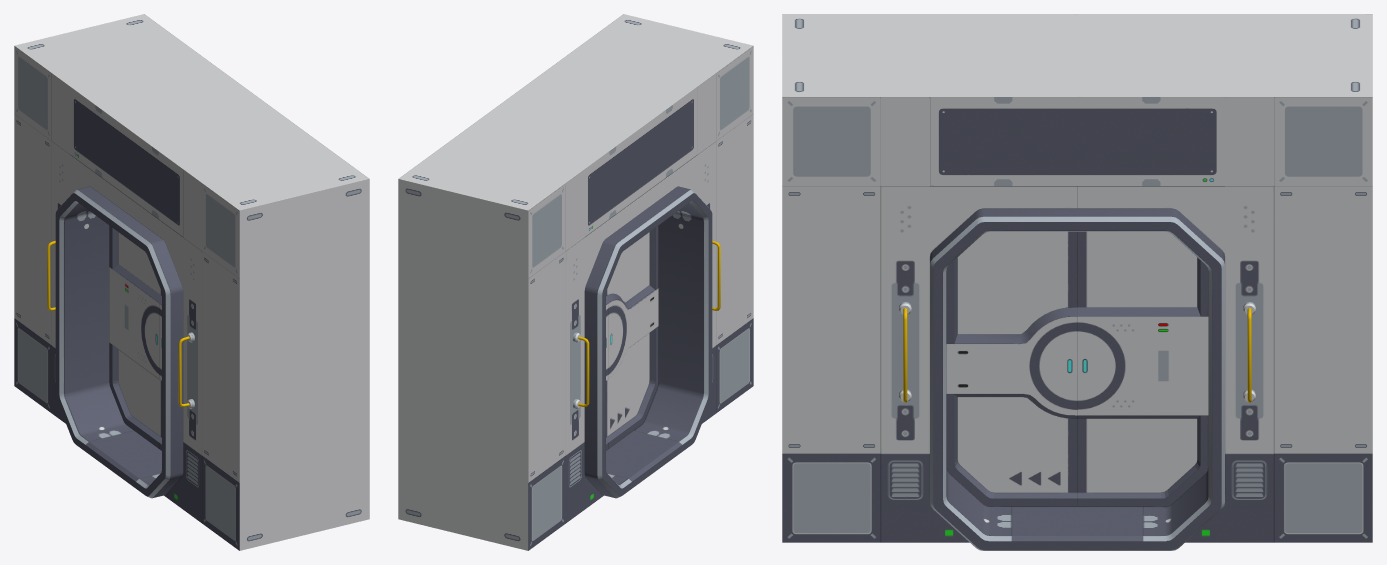
Rendered from Wall_Int_Door_Simple_01.FBX.
The picture shows the model from 3 angles, left to right: view 1: azimuth 30°, elevation 25°; view 2: azimuth 150°, elevation 25°; view 3: azimuth 270°, elevation 25°; orthographic projection. The views are drawn at different scales.
Parts seen in each view (by area): view 1: Wall_Int_Door_Simple_01, Door_Left; view 2: Wall_Int_Door_Simple_01, Door_Right; view 3: Wall_Int_Door_Simple_01, Door_Left, Door_Right.
Part boxes in pixels (bbox=[...]): Wall_Int_Door_Simple_01: bbox=[14, 14, 369, 550]; Door_Left: bbox=[109, 225, 161, 448]; Wall_Int_Door_Simple_01: bbox=[398, 14, 753, 550]; Door_Right: bbox=[606, 225, 658, 448]; Wall_Int_Door_Simple_01: bbox=[782, 14, 1372, 550]; Door_Left: bbox=[1077, 231, 1208, 506]; Door_Right: bbox=[946, 231, 1077, 506].
Bounding box in the file's own units: 2.5 × 5 × 6.
Materials: 3 (3 with a texture image).
